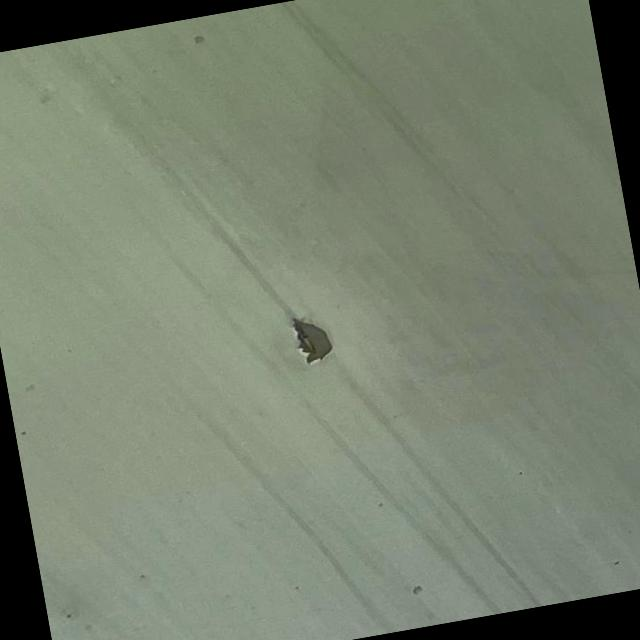crack: (252, 296, 328, 378)
